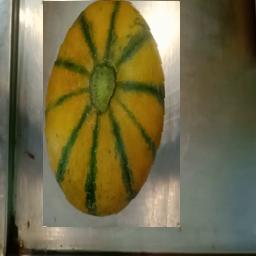Melon Fresh: (43, 2, 180, 228)
